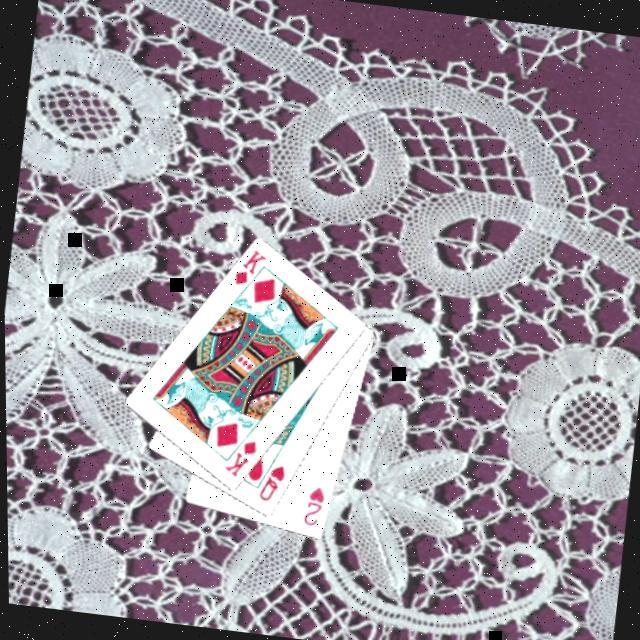2H: (294, 483, 325, 532)
KD: (216, 435, 258, 484), (226, 246, 266, 294)
QH: (250, 462, 284, 508)
